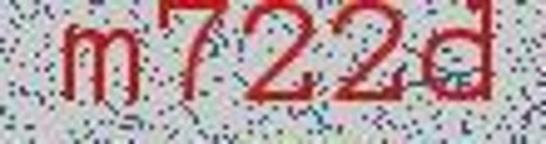2: (323, 1, 412, 143), (236, 1, 322, 141)
7: (154, 1, 237, 134)
d: (417, 1, 501, 120)
m: (49, 14, 150, 138)
